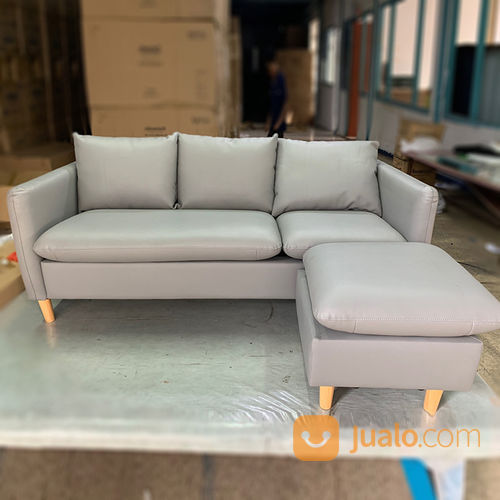sova: (7, 133, 500, 414)
